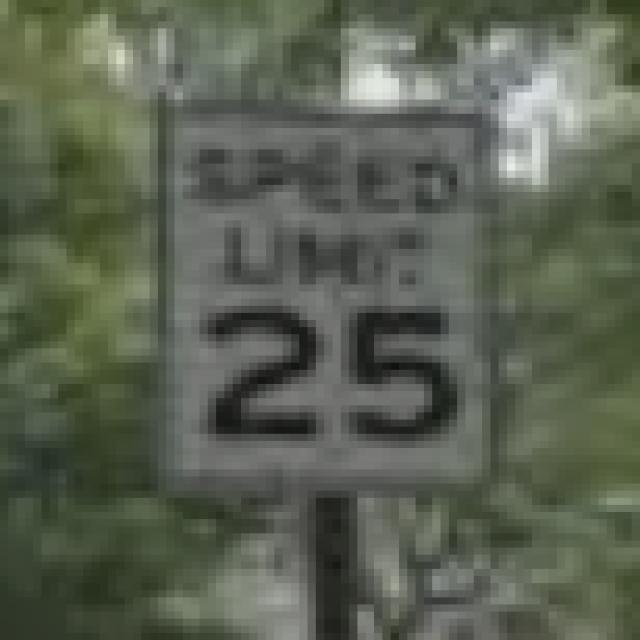speedLimit25: (160, 108, 490, 488)
